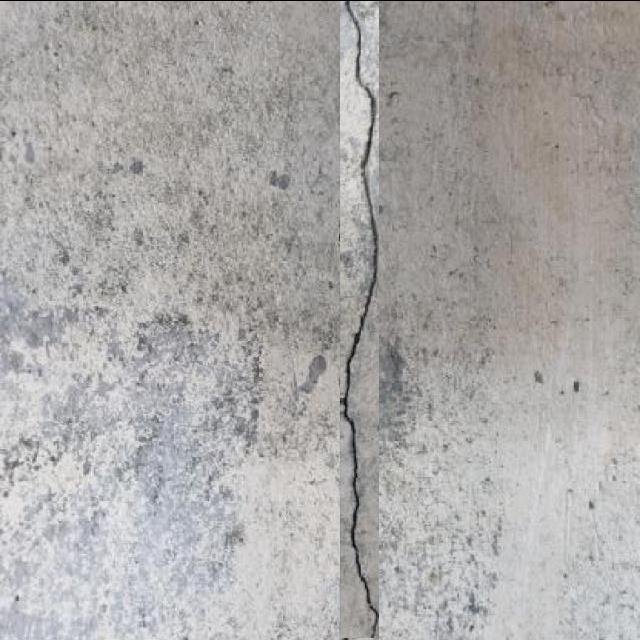crack: (337, 0, 382, 639)
